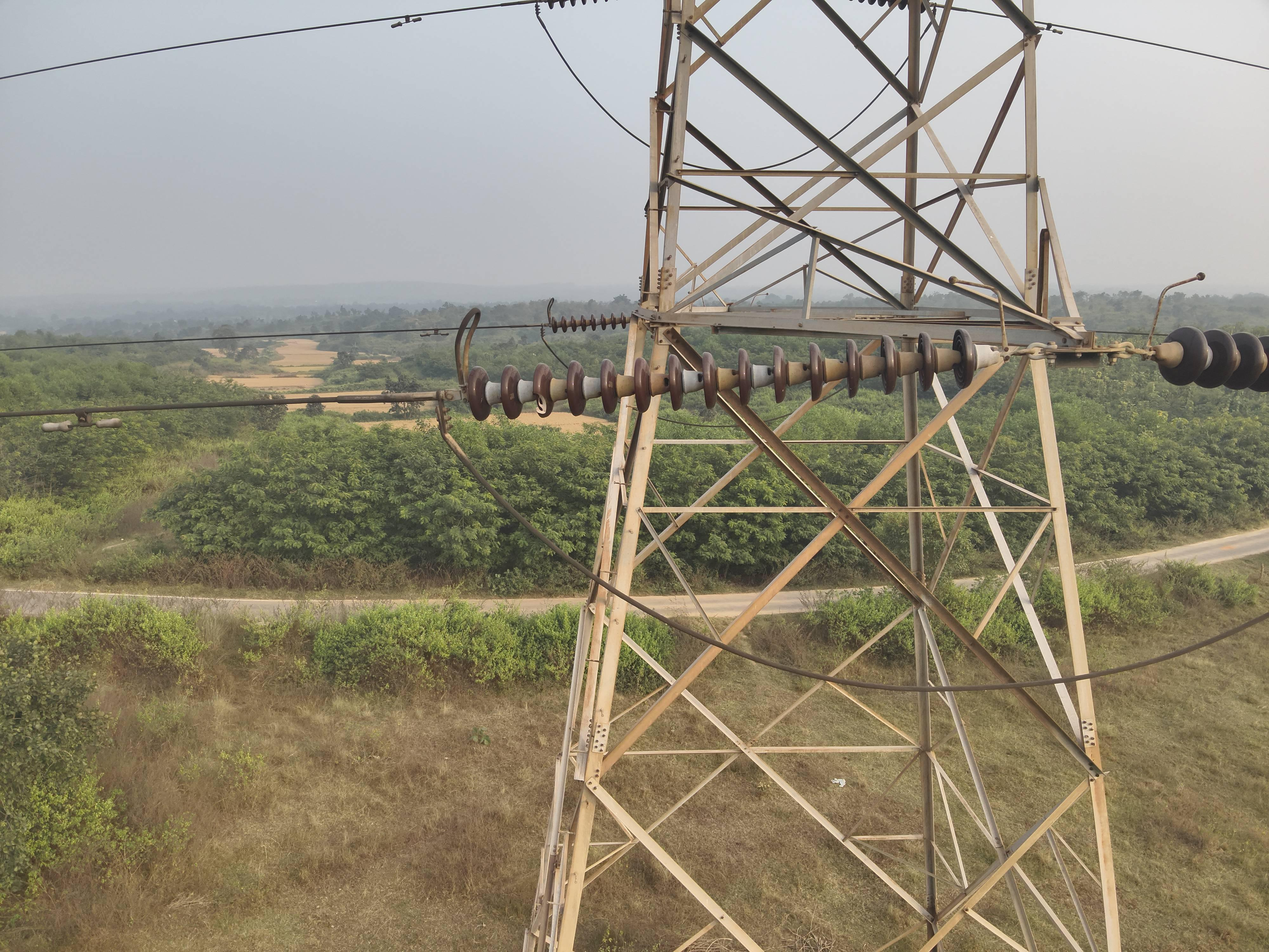broken_insulator: (530, 354, 559, 424)
